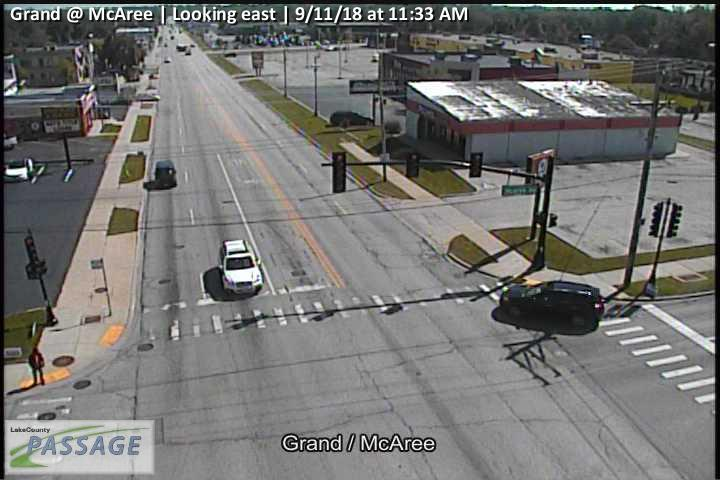SUV: (497, 278, 604, 334)
Sedan: (216, 239, 265, 295), (329, 108, 374, 127), (2, 158, 35, 182), (154, 159, 179, 189)
